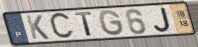6: (125, 8, 148, 36)
C: (48, 11, 76, 42)
G: (98, 9, 126, 37)
J: (153, 6, 173, 33)
K: (24, 14, 51, 40)
T: (73, 11, 94, 38)
